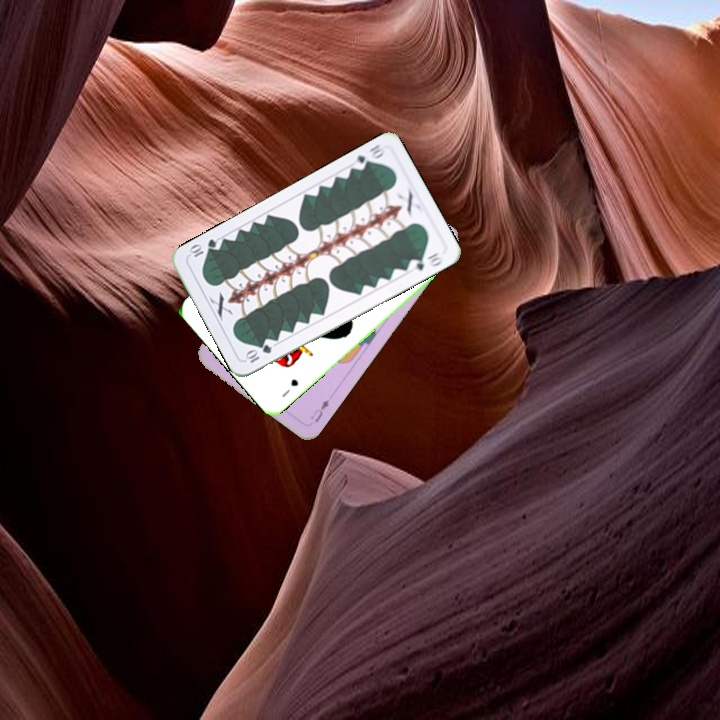EU: (306, 395, 332, 425)
G10: (352, 140, 386, 173), (241, 340, 274, 366)
GU: (278, 375, 301, 400)
